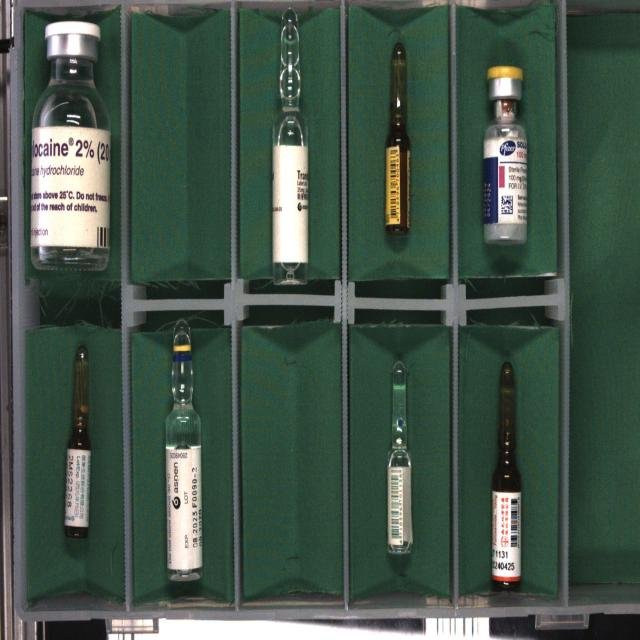Vials: (29, 20, 110, 276), (482, 66, 528, 245)
